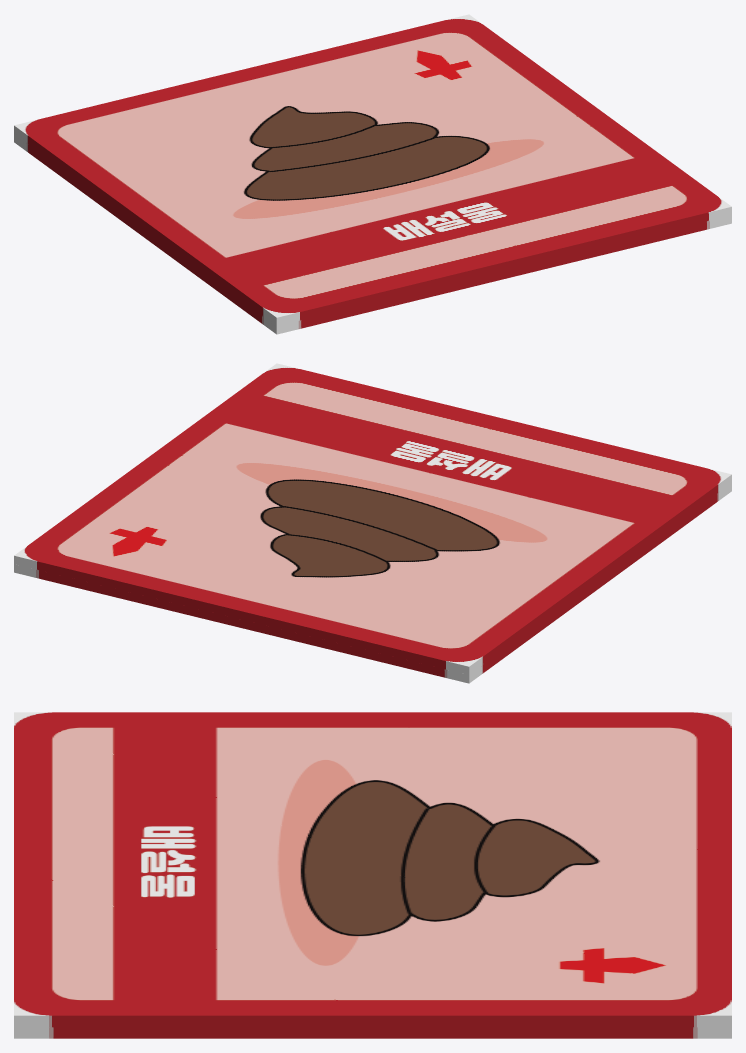
Rendered from PoopCard.fbx.
The picture shows the model from 3 angles, top to bottom: view 1: azimuth 30°, elevation 25°; view 2: azimuth 150°, elevation 25°; view 3: azimuth 270°, elevation 25°; orthographic projection. The views are drawn at different scales.
Visible parts, largest first — view 1: Front, Back; view 2: Front, Back; view 3: Front, Back.
Boxes of the visible parts, bbox=[...] form: Front: bbox=[14, 14, 731, 325]; Back: bbox=[14, 134, 731, 334]; Front: bbox=[14, 363, 731, 674]; Back: bbox=[14, 483, 731, 683]; Front: bbox=[14, 712, 731, 1027]; Back: bbox=[14, 1027, 731, 1038].
Size of the model in its own units: 4.06 by 0.1436 by 4.06.
